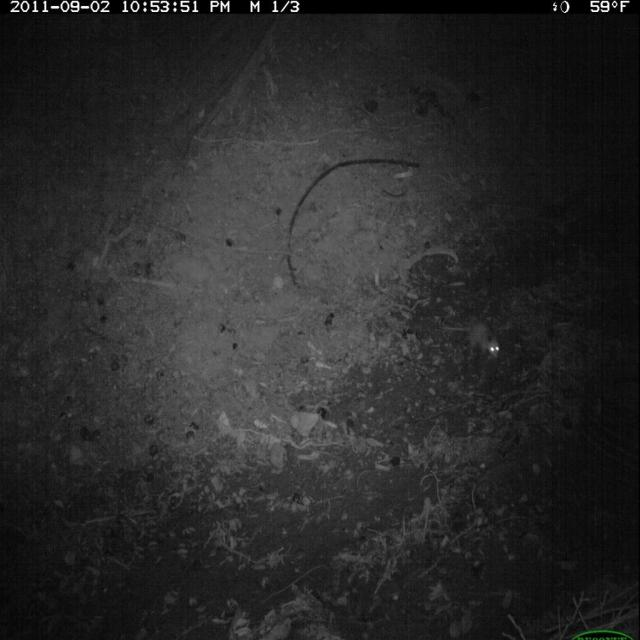opossum: (437, 318, 502, 362)
